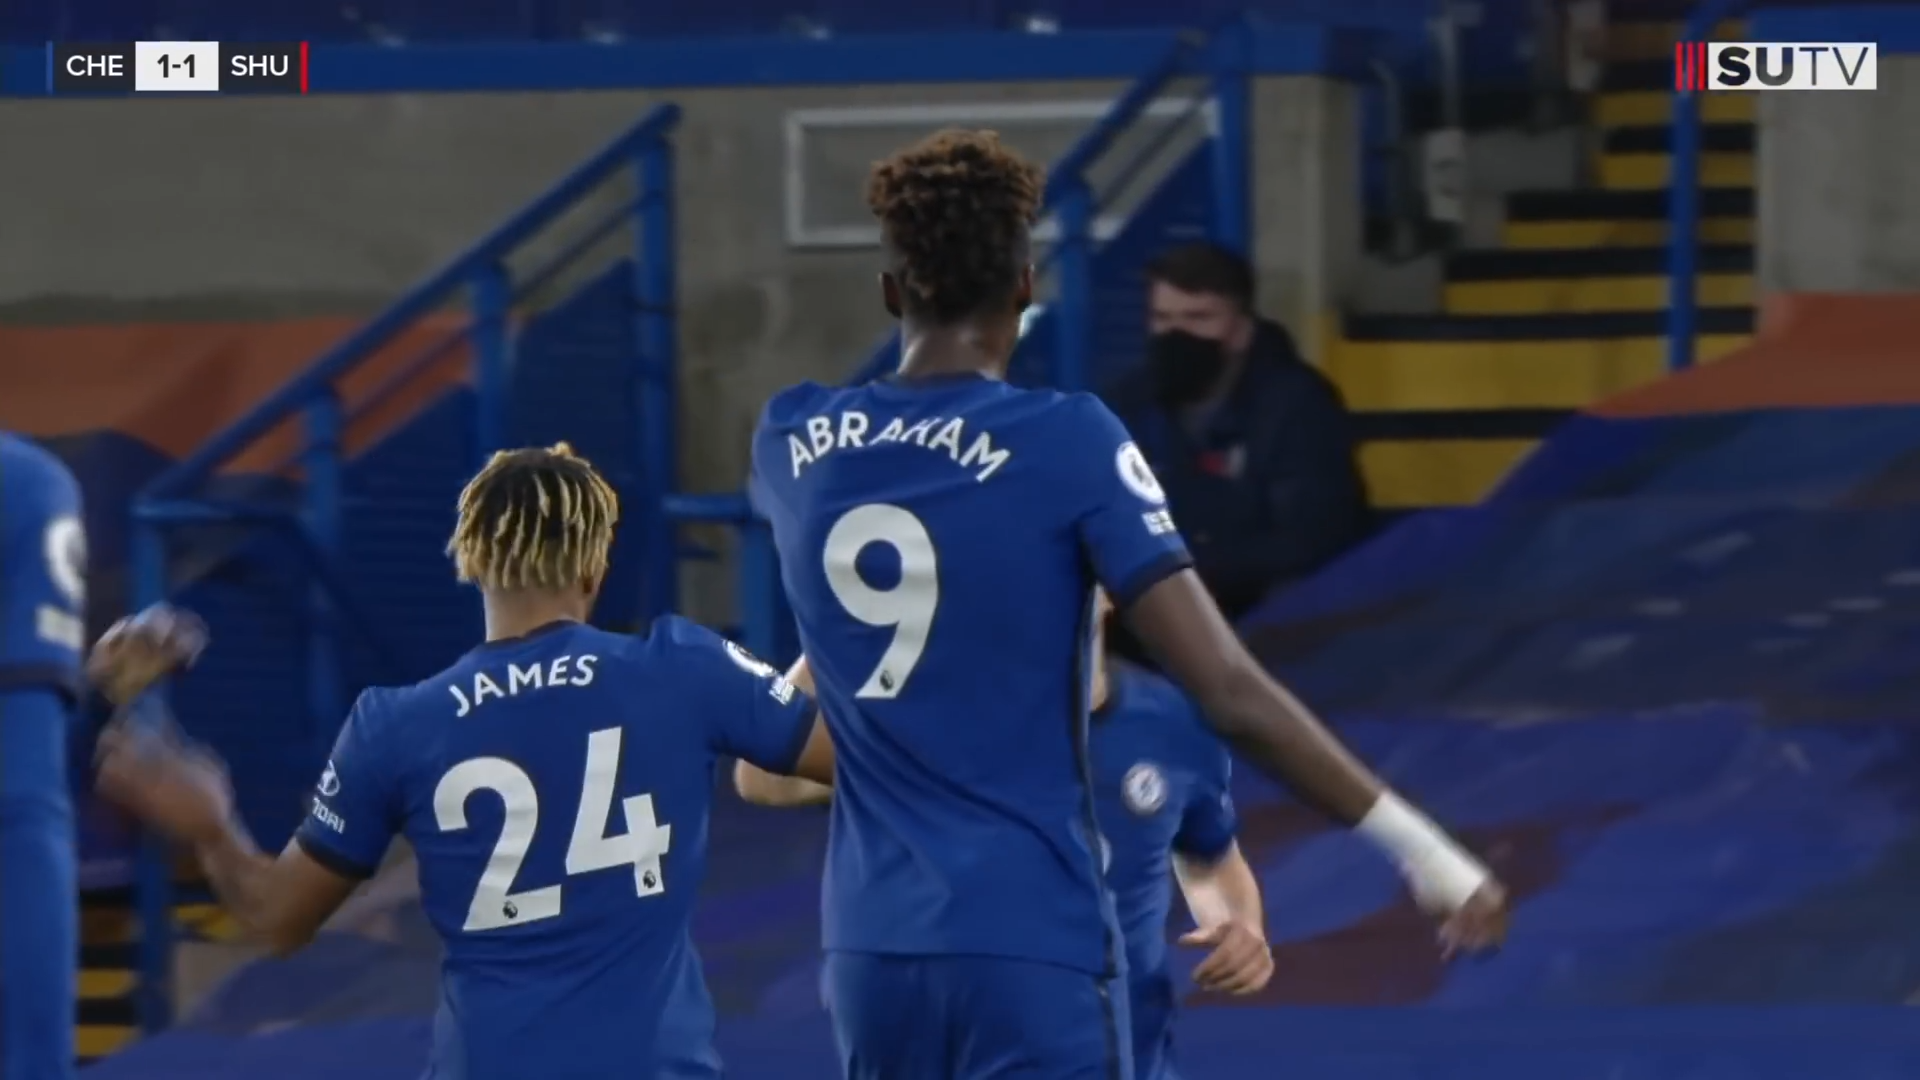Player: (714, 121, 1519, 1078)
